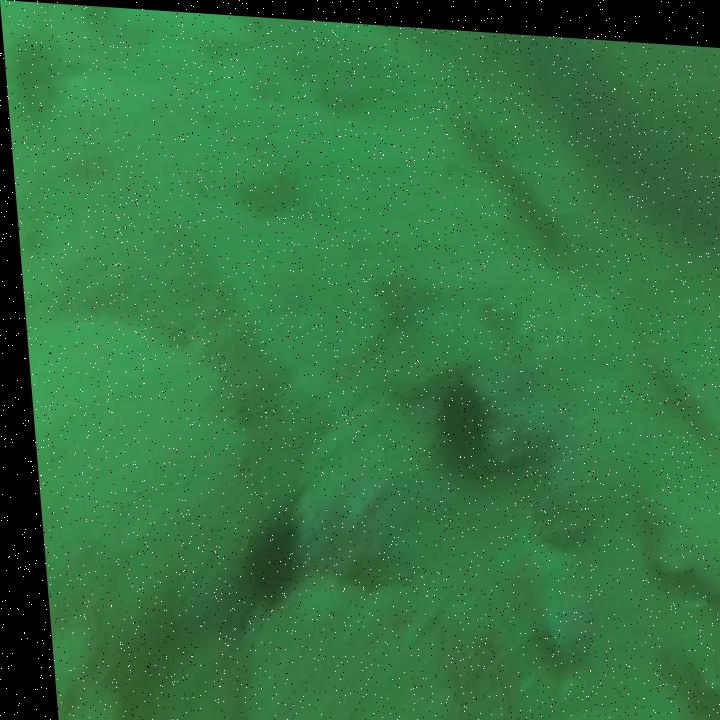echinus: (224, 499, 296, 611), (429, 363, 485, 470)
